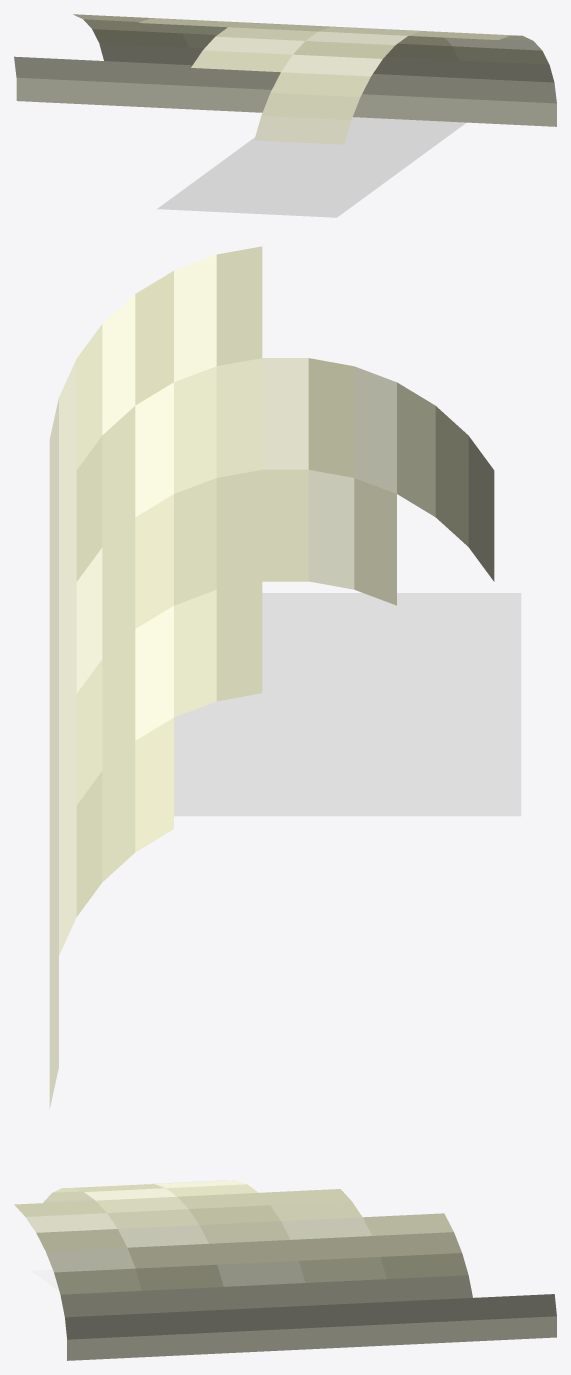
3 views of the same model, one above another, from view 1: azimuth 30°, elevation 25°; view 2: azimuth 150°, elevation 25°; view 3: azimuth 270°, elevation 25° (orthographic). The views are drawn at different scales.
Visible parts, largest first — view 1: O2C607; view 2: O2C607; view 3: O2C607.
Part boxes in pixels (<box>): O2C607: <box>14,14,556,217</box>; O2C607: <box>49,246,521,1108</box>; O2C607: <box>14,1180,556,1360</box>.
Size of the model in its own units: 29.32 by 20 by 46.08.
